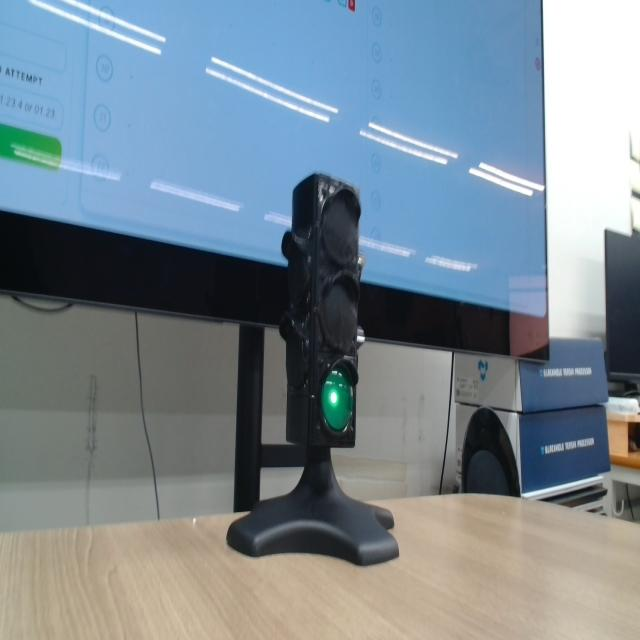green_light: (321, 368, 352, 432)
